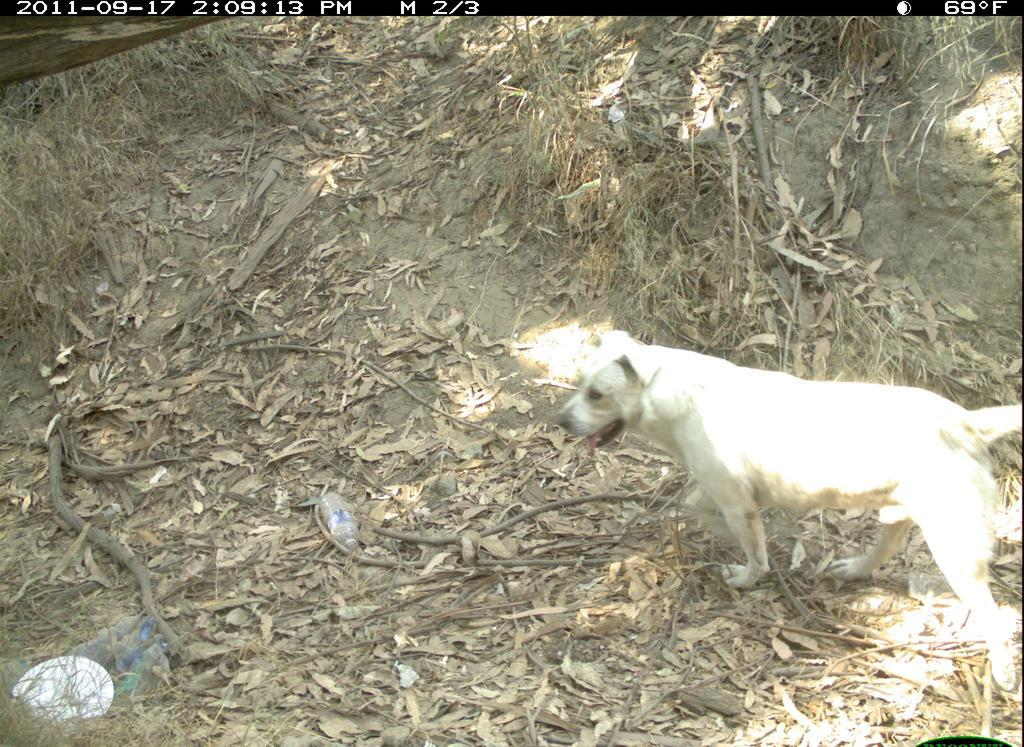dog: (559, 326, 1023, 702)
